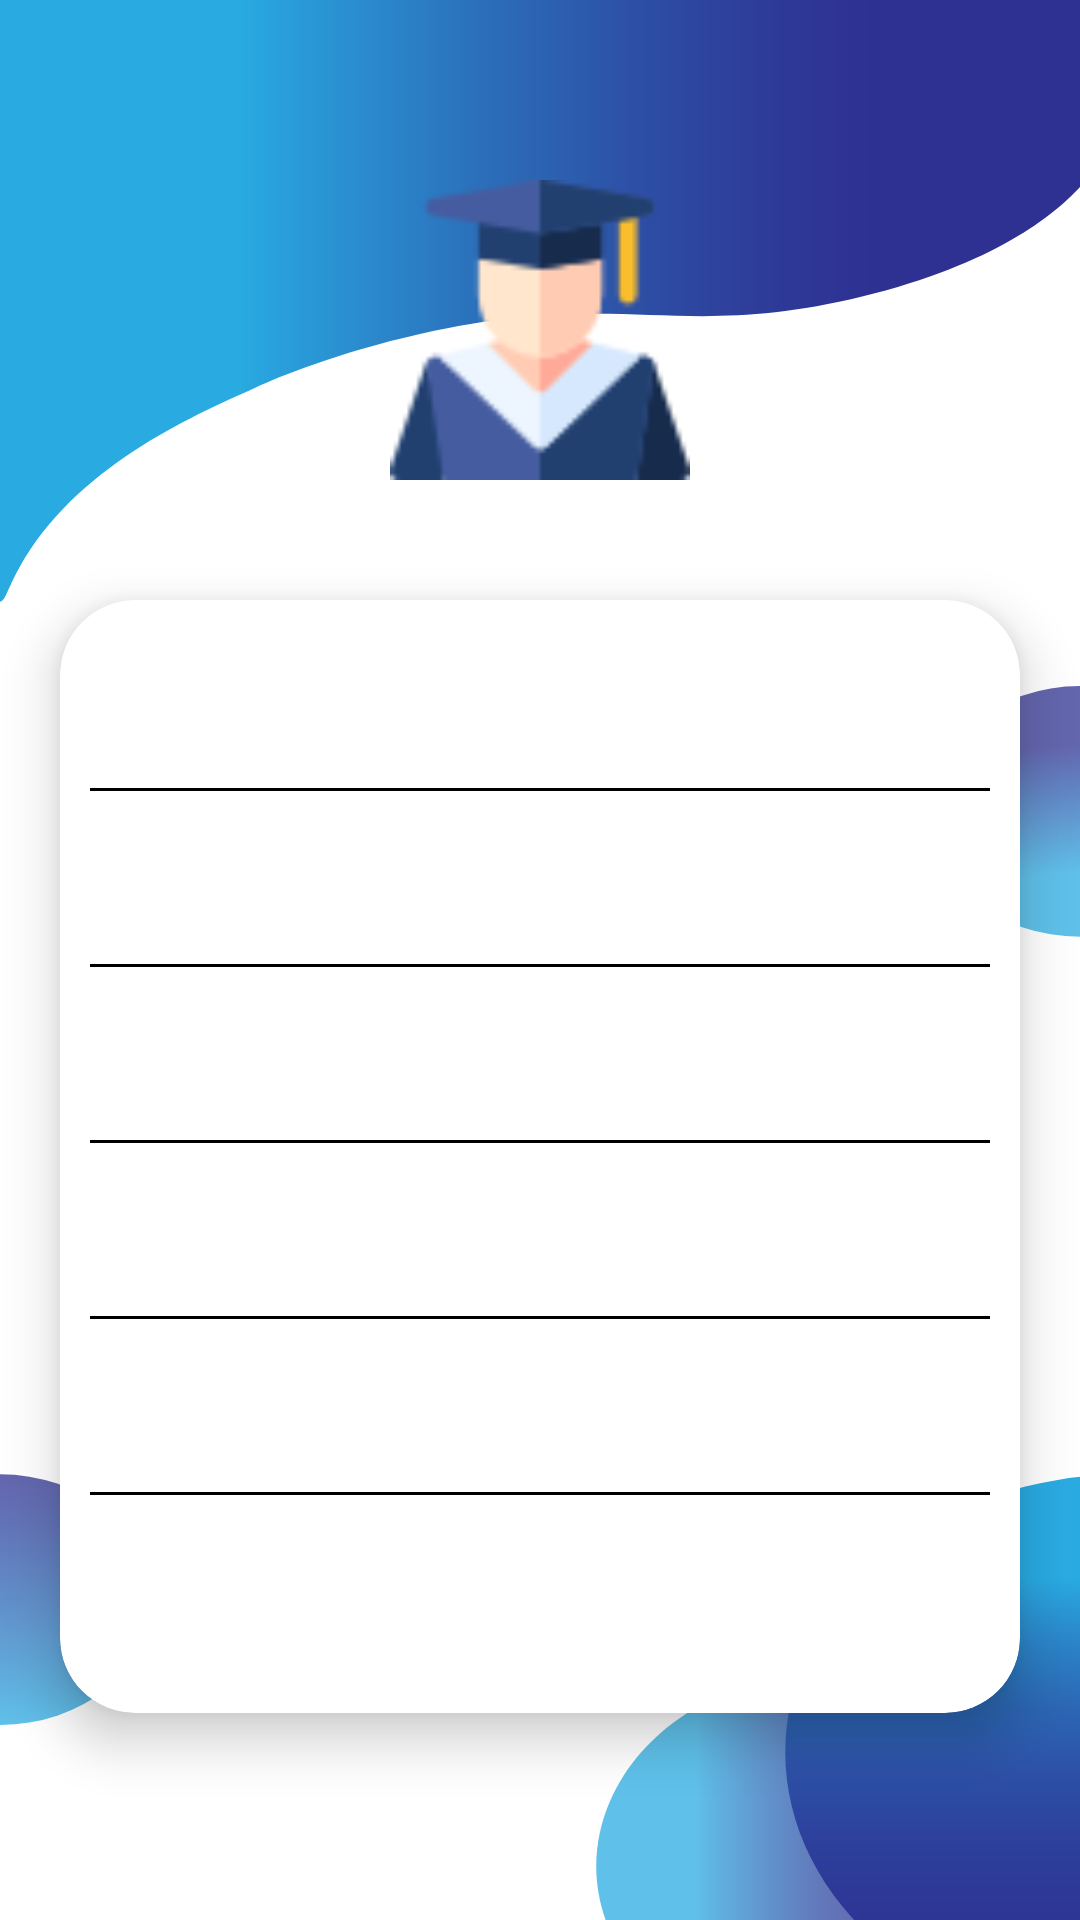

Named icons in this screenshot (1080x1920) and their centers, (x=x, y=y):
graduation: (x=540, y=330)
